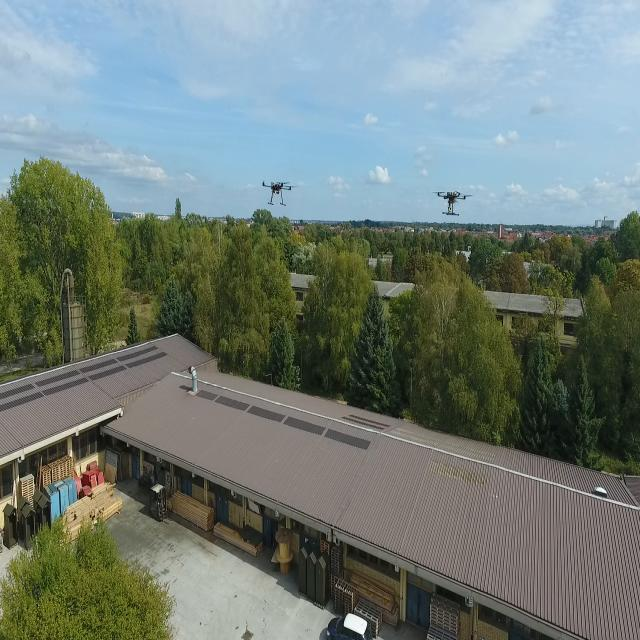UAV: (428, 185, 477, 214), (259, 176, 299, 204)
